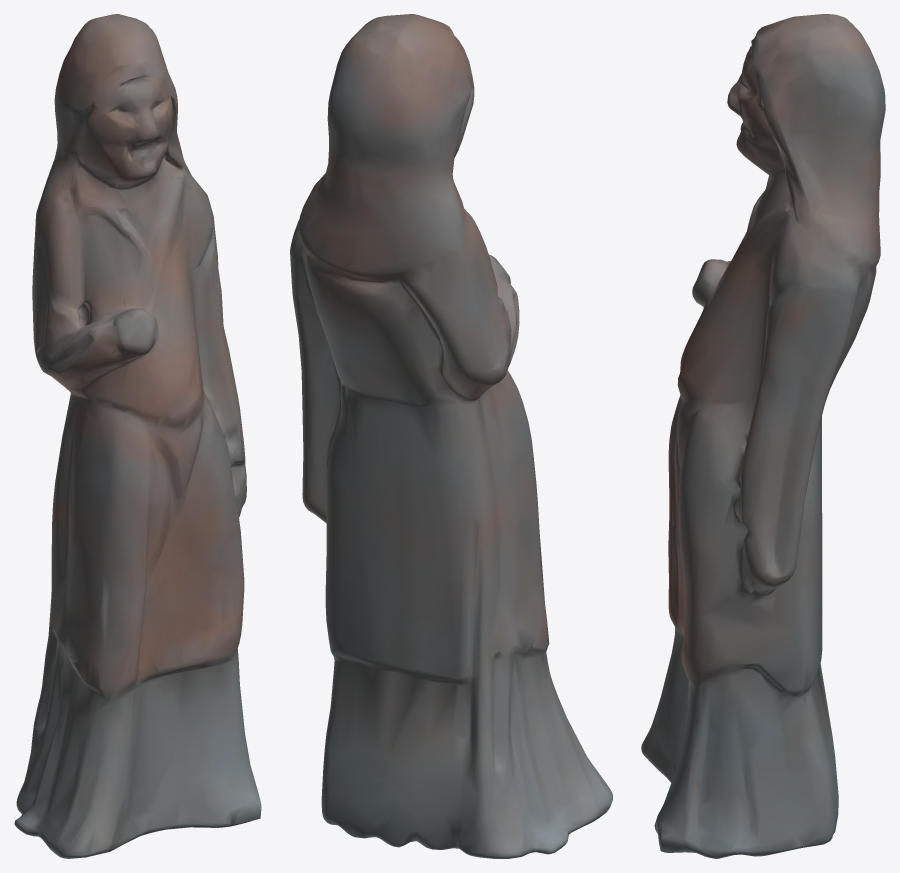
3 renders of one model, left to right at view 1: azimuth 30°, elevation 25°; view 2: azimuth 150°, elevation 25°; view 3: azimuth 270°, elevation 25°, orthographic. The views are drawn at different scales.
Parts seen in each view (by area): view 1: node_0; view 2: node_0; view 3: node_0.
Part boxes in pixels (x1,y1,x2,y2): node_0: [14, 14, 261, 858]; node_0: [290, 14, 612, 858]; node_0: [641, 14, 885, 858].
Size of the model in its own units: 0.3585 by 1.14 by 0.3155.
Materials: 1 (1 with a texture image).
